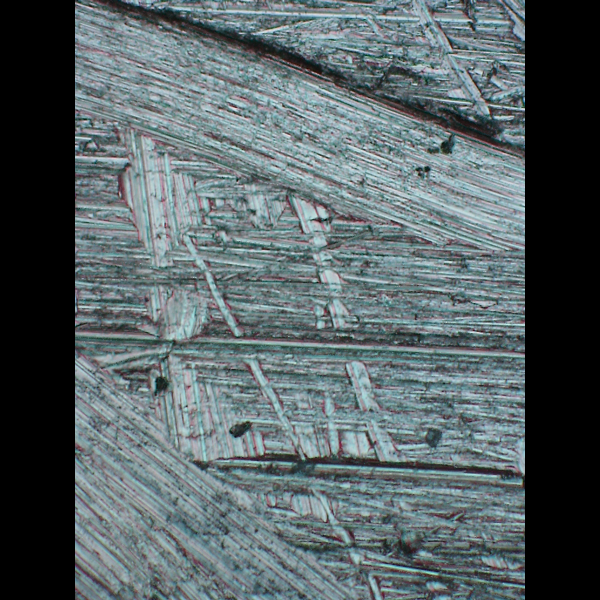d: (79, 0, 524, 595)
